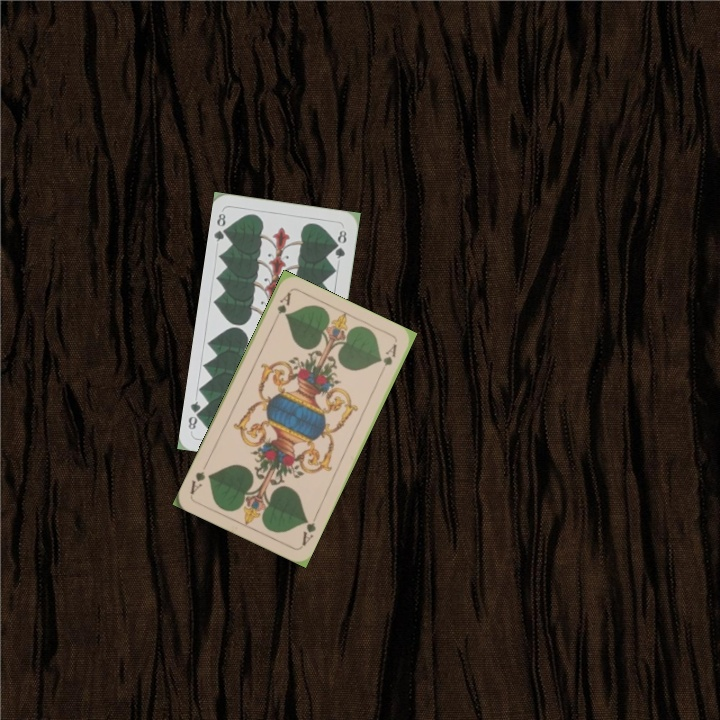G8: (210, 209, 232, 244)
GA: (269, 288, 293, 326), (298, 510, 320, 549)
